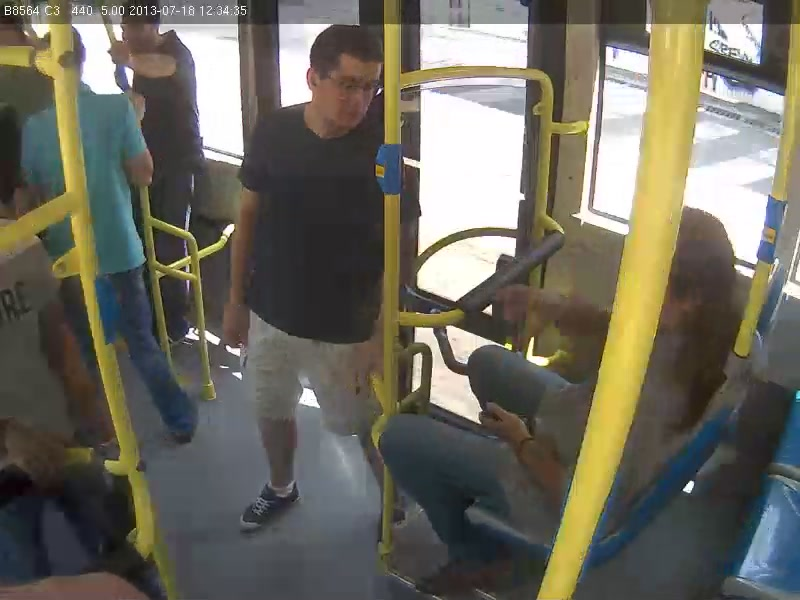Head: (656, 202, 749, 334), (299, 21, 388, 133), (119, 2, 168, 55)
